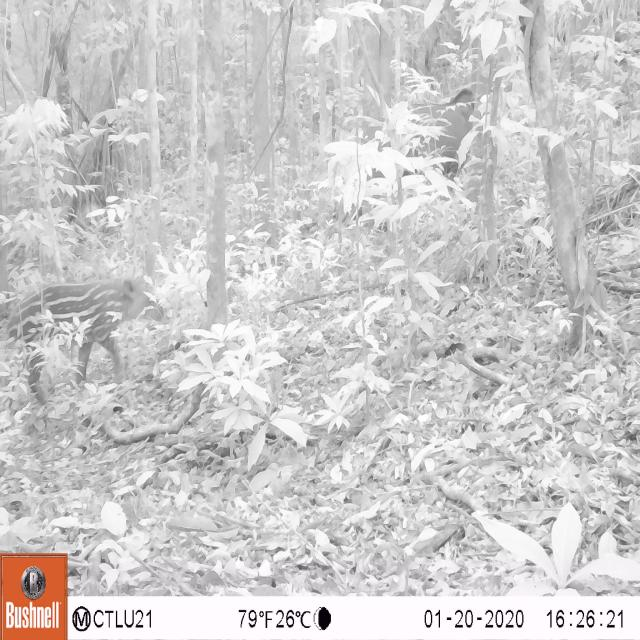Lowland Tapir: (7, 241, 178, 401)
